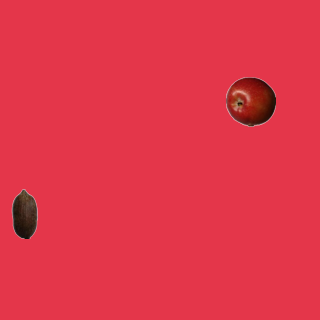Apple Braeburn: (225, 76, 275, 126)
Nut Pecan: (0, 188, 49, 238)
